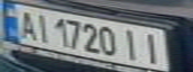0: (96, 24, 121, 57)
1: (48, 16, 72, 47)
2: (78, 20, 103, 54)
7: (63, 17, 84, 51)
A: (12, 7, 39, 40)
I: (139, 29, 169, 64), (118, 26, 145, 62), (30, 11, 54, 43)
